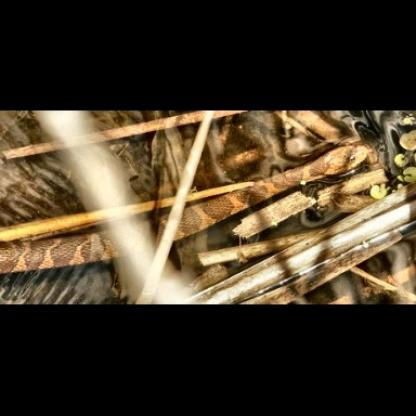Snake: (0, 144, 376, 274), (245, 145, 370, 196)
